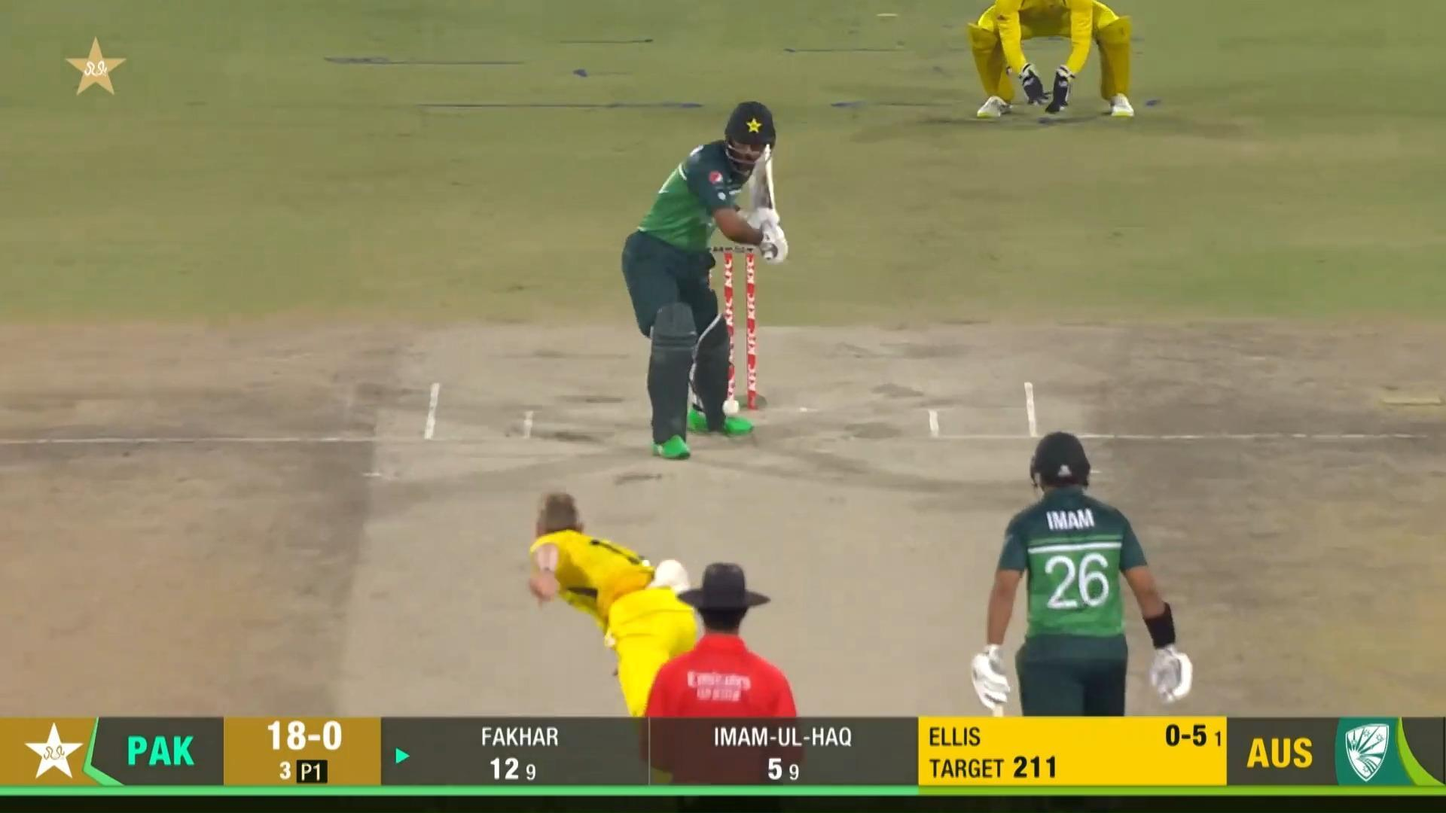BM 1: (620, 100, 787, 461)
BO: (526, 487, 755, 813)
